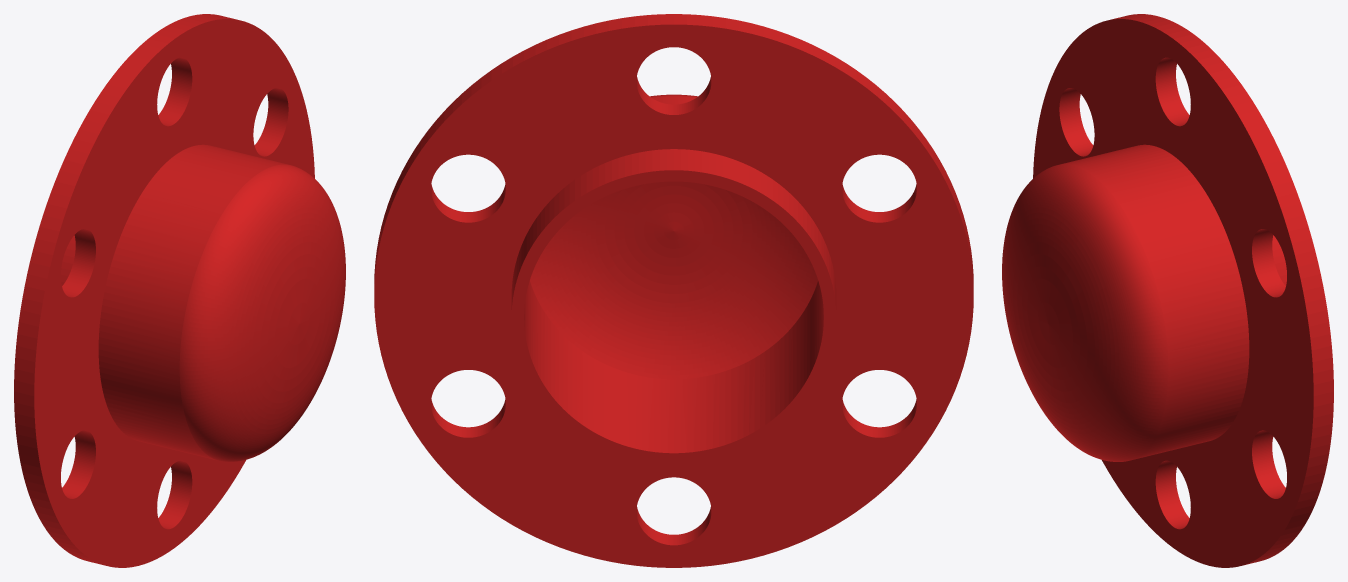
File: 1_colored.obj
3 renders of one model, left to right at view 1: azimuth 30°, elevation 25°; view 2: azimuth 150°, elevation 25°; view 3: azimuth 270°, elevation 25°, orthographic. The views are drawn at different scales.
Size of the model in its own units: 0.1064 by 0.12 by 0.0709.
